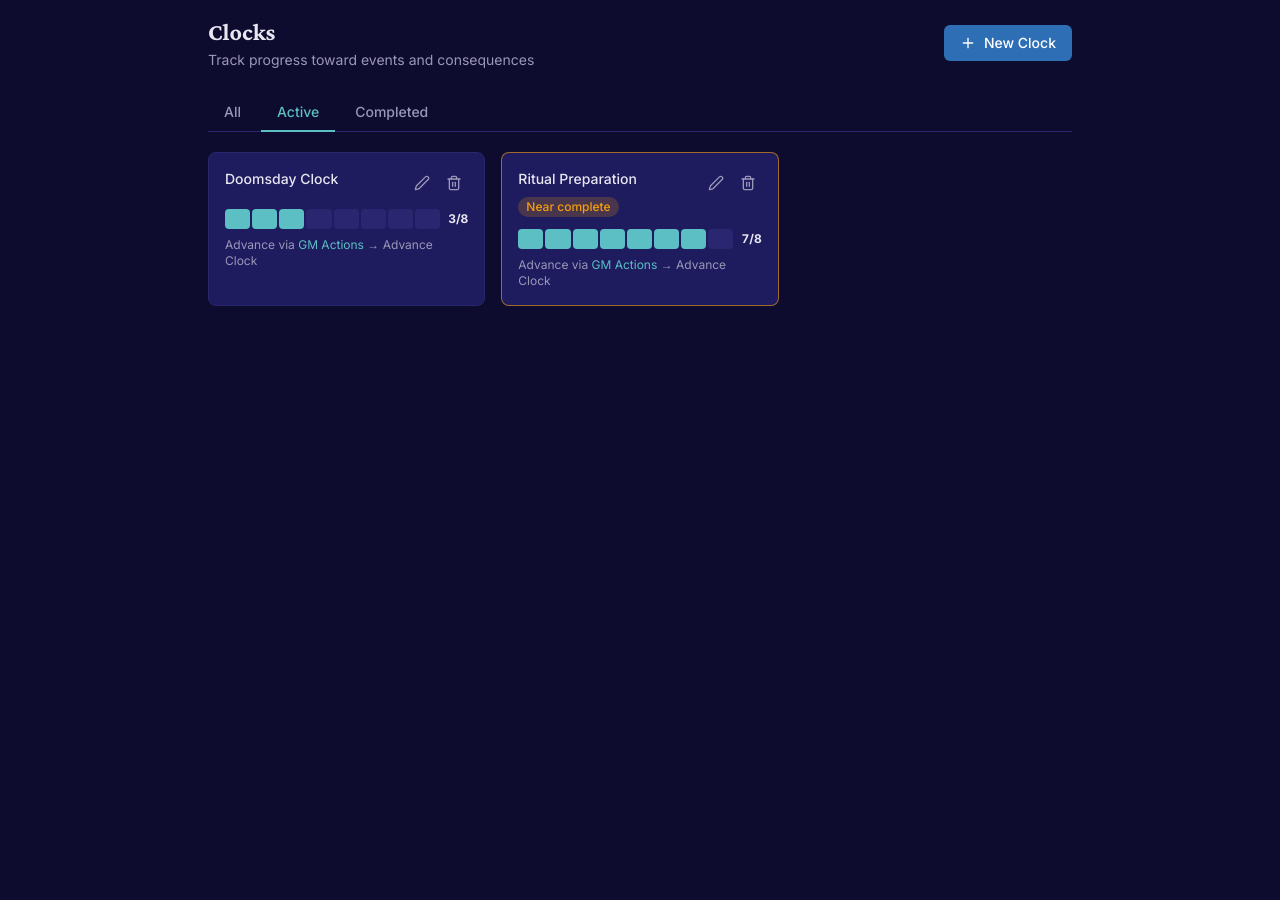
Test: GmClocksPage › shows delete confirmation modal when clicking delete
Expected: the heading "Doomsday Clock" is shown, [225,169,338,189]
// Click delete on first clock
Click the button named "delete clock" at (454, 183), box [440,169,468,197]
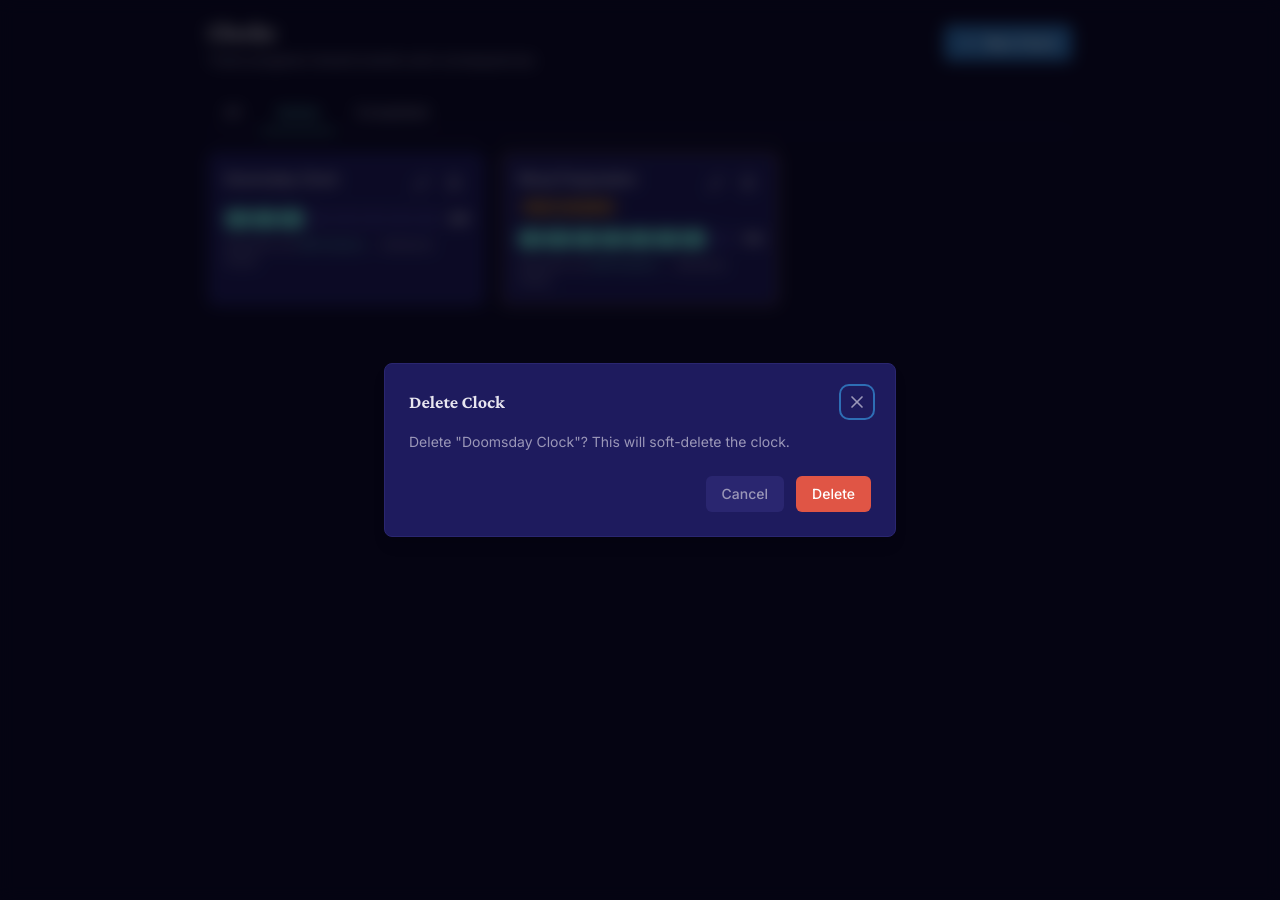
Now the heading "Delete Clock" is shown, box [409,388,505,416]
